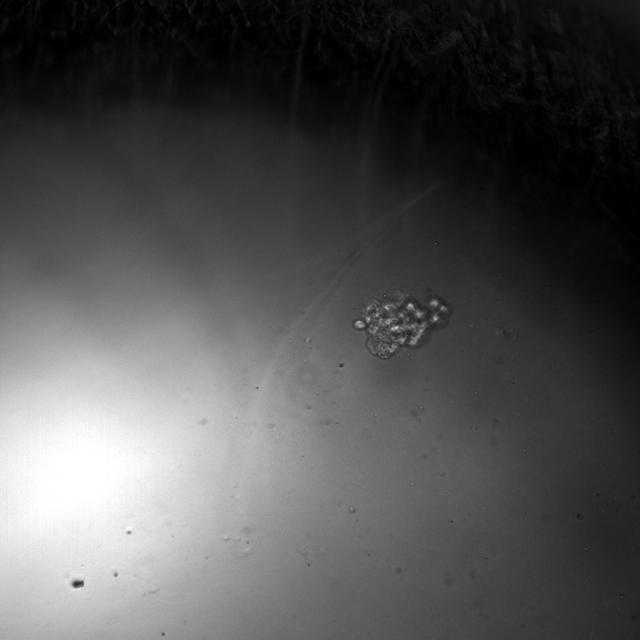organoid: (353, 292, 450, 359)
